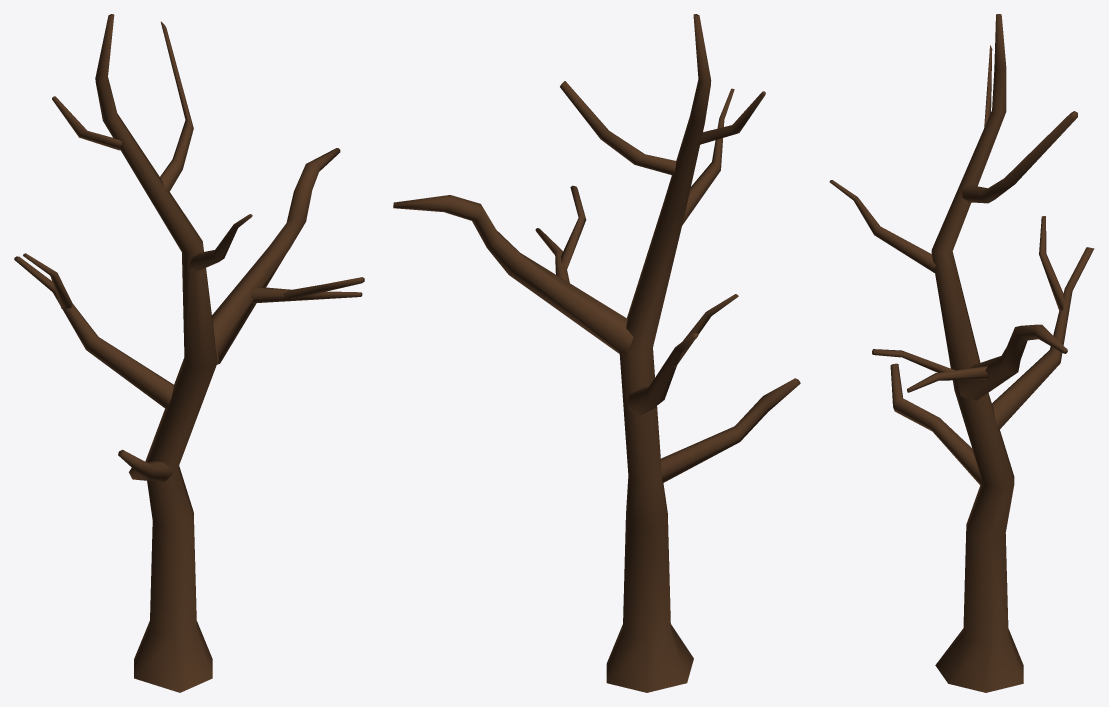
The model's file is tree.obj.
3 renders of one model, left to right at view 1: azimuth 30°, elevation 25°; view 2: azimuth 150°, elevation 25°; view 3: azimuth 270°, elevation 25°, orthographic. The views are drawn at different scales.
Parts seen in each view (by area): view 1: Tree; view 2: Tree; view 3: Tree.
Part boxes in pixels (bbox=[...]): Tree: bbox=[14, 14, 364, 692]; Tree: bbox=[393, 14, 800, 692]; Tree: bbox=[829, 14, 1094, 692].
Size of the model in its own units: 2.33 by 4.51 by 1.71.
